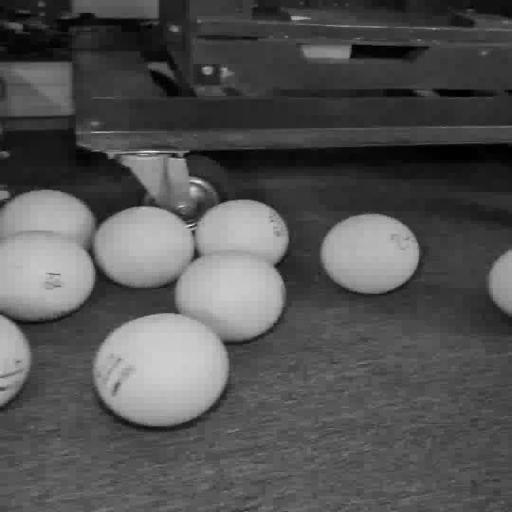fuel: (93, 314, 229, 427), (175, 251, 286, 342), (0, 231, 96, 321), (93, 207, 194, 288), (321, 214, 420, 294), (196, 200, 289, 265), (0, 190, 96, 250), (0, 315, 31, 407), (488, 250, 511, 316)
